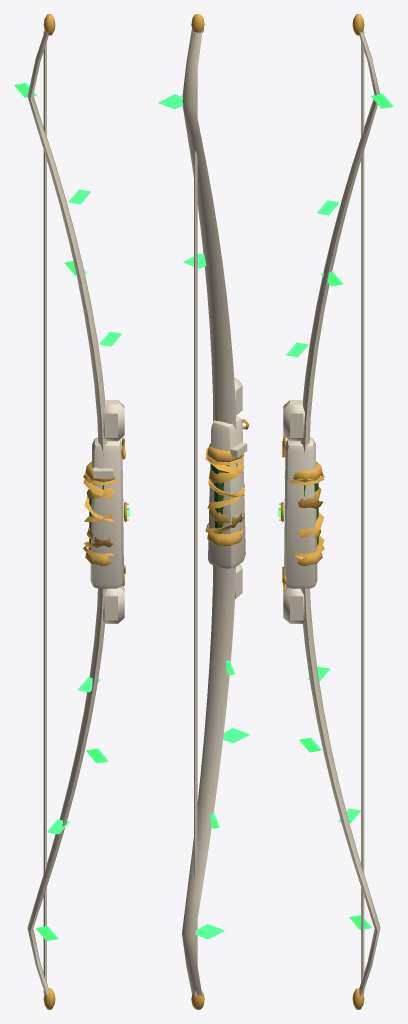
File: elven_longbow.glb
3 renders of one model, left to right at view 1: azimuth 90°, elevation 25°; view 2: azimuth 150°, elevation 25°; view 3: azimuth 270°, elevation 25°, orthographic.
Visible parts, largest first — view 1: elven_longbow; view 2: elven_longbow; view 3: elven_longbow.
Part boxes in pixels (x1,y1,x2,y2): elven_longbow: (14,14,129,1009); elven_longbow: (158,14,249,1009); elven_longbow: (278,14,393,1009).
Bounding box in the file's own units: 0.0785 × 1.64 × 0.1724.
